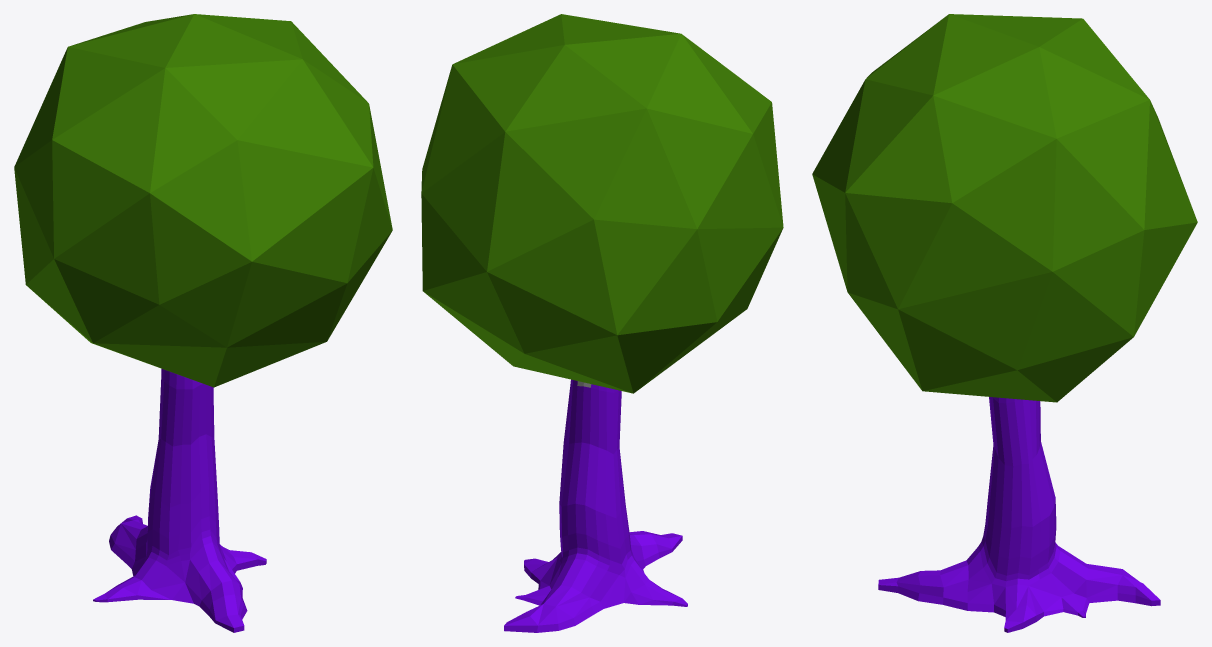
The model's file is TREE_BIG.fbx.
3 views of the same model, side by side, from view 1: azimuth 30°, elevation 25°; view 2: azimuth 150°, elevation 25°; view 3: azimuth 270°, elevation 25° (orthographic). The views are drawn at different scales.
Parts seen in each view (by area): view 1: TREE_BIG; view 2: TREE_BIG; view 3: TREE_BIG.
Part boxes in pixels (x1=…): TREE_BIG: x1=14, y1=14, x2=392, y2=632; TREE_BIG: x1=421, y1=14, x2=783, y2=632; TREE_BIG: x1=812, y1=14, x2=1197, y2=632.
Size of the model in its own units: 1264 by 2088 by 1308.
